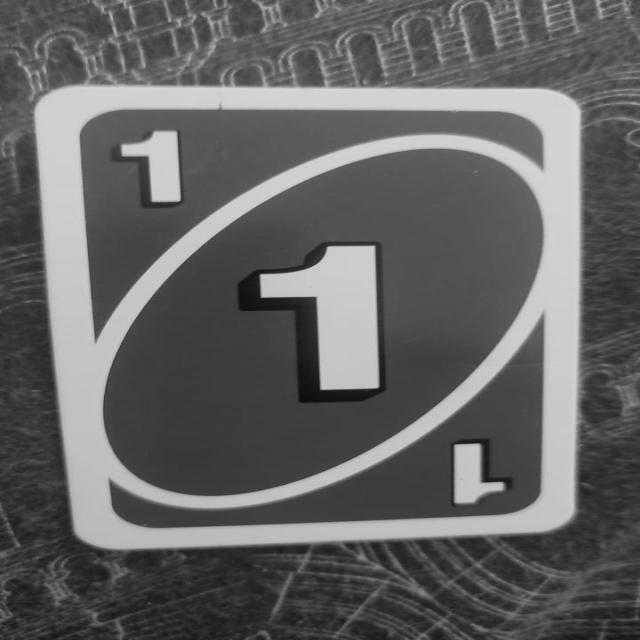card_1: (34, 84, 582, 550)
